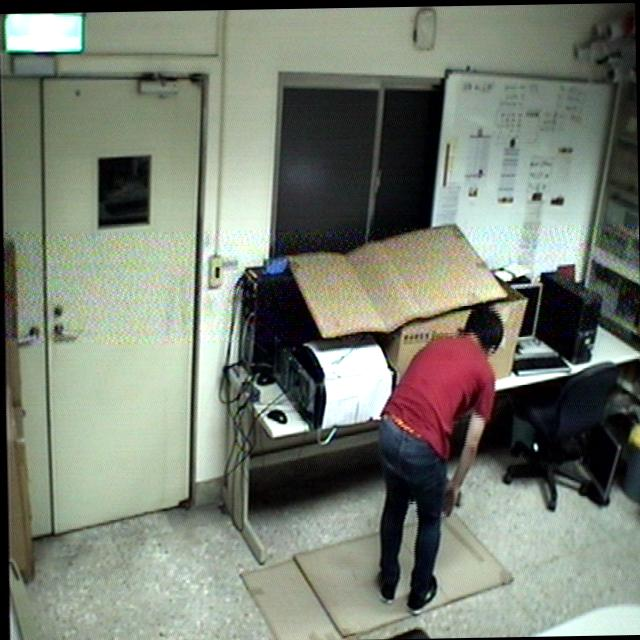bend: (364, 296, 514, 622)
